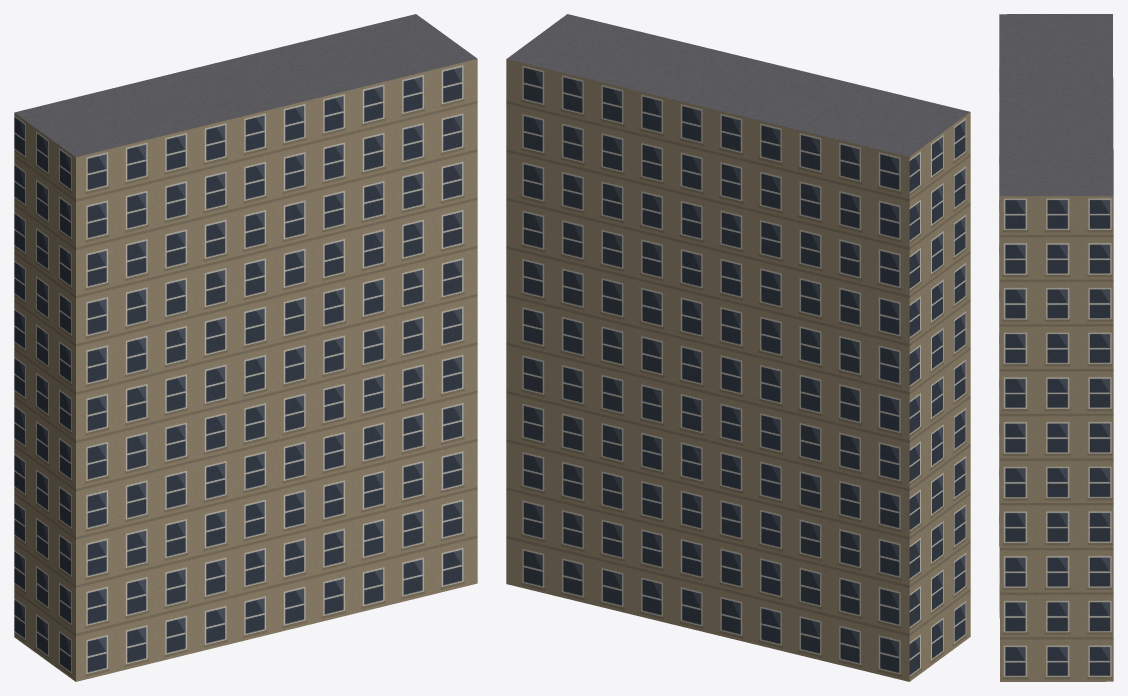
The model's file is bin1016186.glb.
3 views of the same model, side by side, from view 1: azimuth 30°, elevation 25°; view 2: azimuth 150°, elevation 25°; view 3: azimuth 270°, elevation 25° (orthographic). The views are drawn at different scales.
Visible parts, largest first — view 1: c7, c8, c10, c4, c11, c6, c0, c2, c9, c3, c5, c1 (+1 smaller); view 2: c7, c4, c6, c5, c0, c3, c2, c1, c15, c12, c14, c13 (+1 smaller); view 3: c7, c4, c6, c5, c3, c15, c11.
Boxes of the visible parts, x1=… form: c7: x1=108, y1=14, x2=477, y2=217; c8: x1=132, y1=462, x2=317, y2=667; c10: x1=132, y1=218, x2=317, y2=412; c4: x1=318, y1=423, x2=477, y2=622; c11: x1=125, y1=98, x2=317, y2=263; c6: x1=318, y1=179, x2=477, y2=367; c0: x1=14, y1=477, x2=131, y2=681; c2: x1=14, y1=233, x2=131, y2=426; c9: x1=132, y1=367, x2=317, y2=507; c3: x1=14, y1=101, x2=131, y2=276; c5: x1=318, y1=328, x2=477, y2=461; c1: x1=14, y1=382, x2=131, y2=521; c7: x1=506, y1=14, x2=815, y2=253; c4: x1=506, y1=423, x2=815, y2=658; c6: x1=506, y1=179, x2=815, y2=403; c5: x1=506, y1=329, x2=815, y2=498; c0: x1=863, y1=476, x2=970, y2=681; c3: x1=863, y1=98, x2=970, y2=276; c2: x1=863, y1=232, x2=970, y2=426; c1: x1=863, y1=382, x2=970, y2=521; c15: x1=798, y1=89, x2=891, y2=265; c12: x1=816, y1=499, x2=862, y2=670; c14: x1=816, y1=254, x2=862, y2=415; c13: x1=816, y1=404, x2=862, y2=509; c7: x1=999, y1=56, x2=1113, y2=306; c4: x1=999, y1=470, x2=1113, y2=681; c6: x1=999, y1=244, x2=1113, y2=445; c5: x1=999, y1=382, x2=1113, y2=533; c3: x1=999, y1=14, x2=1112, y2=42; c15: x1=1027, y1=35, x2=1112, y2=82; c11: x1=999, y1=39, x2=1035, y2=171.
Size of the model in its own units: 30.56 by 38.05 by 8.12.
3 materials, 3 textured.
